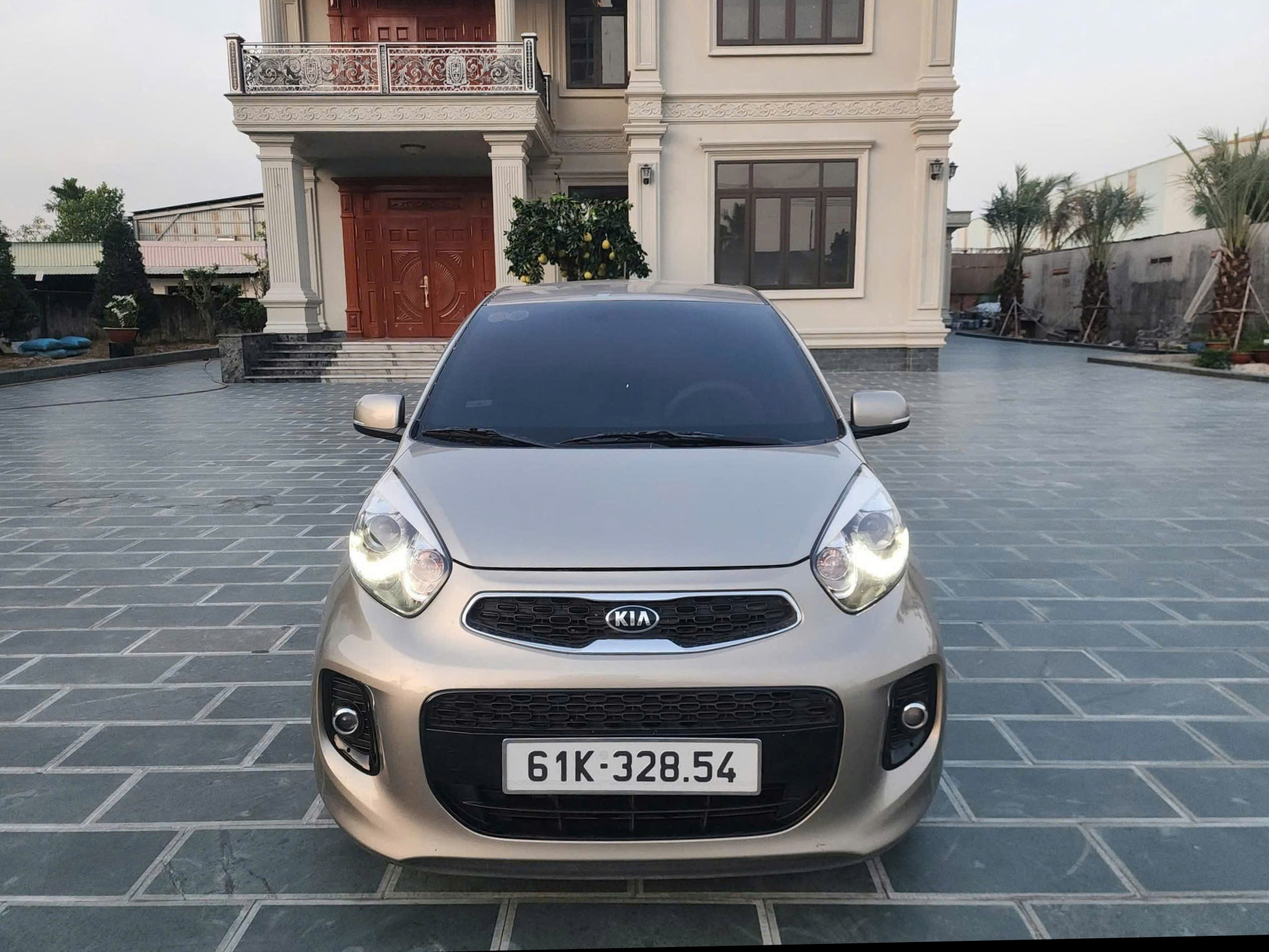Bien-so: (514, 758, 769, 837)
